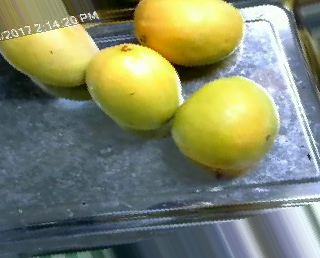Mango: (169, 73, 282, 172), (86, 43, 185, 129), (129, 1, 246, 65), (0, 24, 103, 92)
